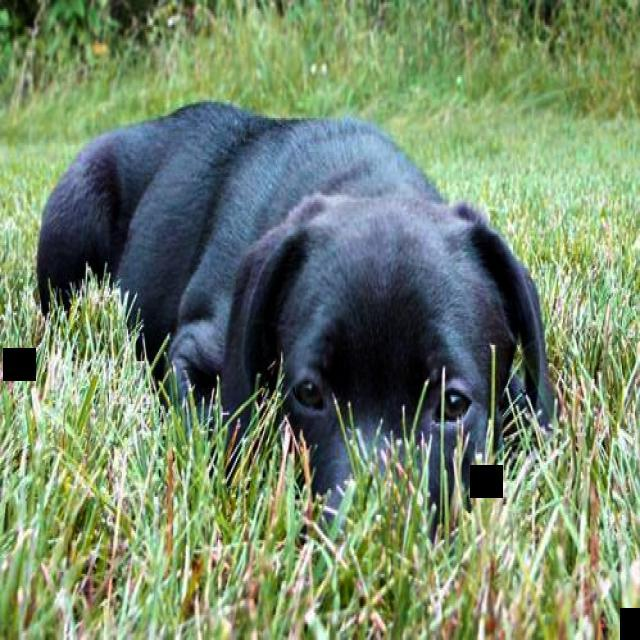puppy-dog: (28, 101, 561, 548)
